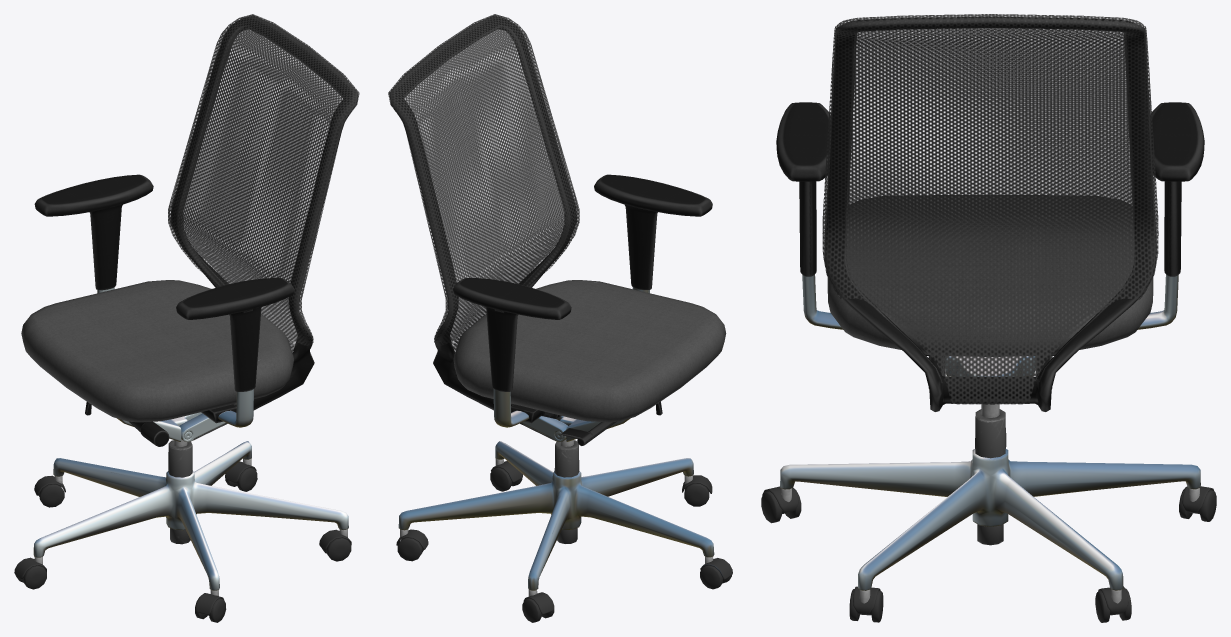
File: Office_Chair_5.glb
The picture shows the model from 3 angles, left to right: view 1: azimuth 30°, elevation 25°; view 2: azimuth 150°, elevation 25°; view 3: azimuth 270°, elevation 25°; orthographic projection. The views are drawn at different scales.
Parts seen in each view (by area): view 1: Chair; view 2: Chair; view 3: Chair.
Part boxes in pixels (box(x1,y1,x2,y2)): Chair: box(14, 14, 359, 622); Chair: box(388, 14, 732, 622); Chair: box(761, 14, 1216, 622).
Bounding box in the file's own units: 25.02 × 38.49 × 25.76.
Materials: 1 (1 with a texture image).
